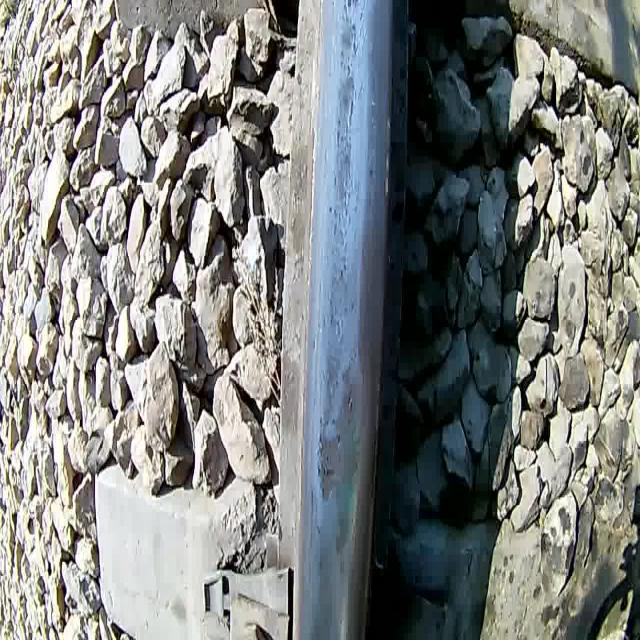Squats: (314, 260, 367, 567), (326, 0, 369, 234)
